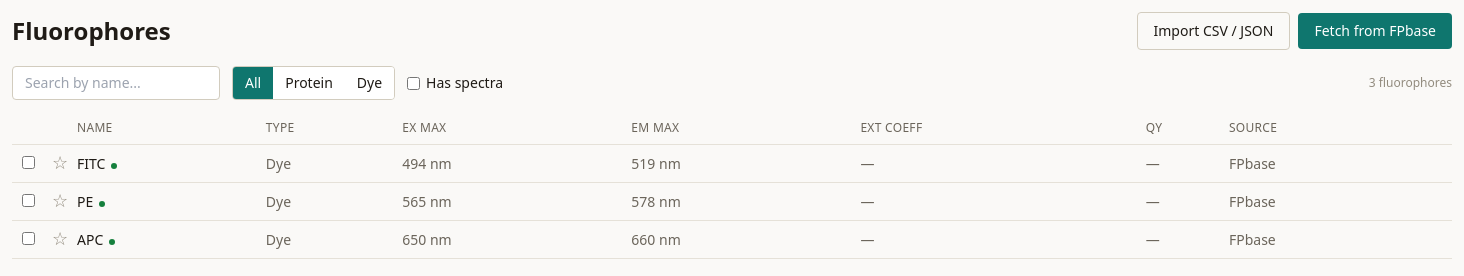
Test: FluorophoreTable › selecting checkboxes opens overlay sidebar
This screenshot has width=1464, height=276.
Expected: the text "Spectra Overlay" is not shown
Click the checkbox titled "Add to spectra overlay" next to "FITC".
click(28, 162)  # box left=22, top=156, right=34, bottom=168
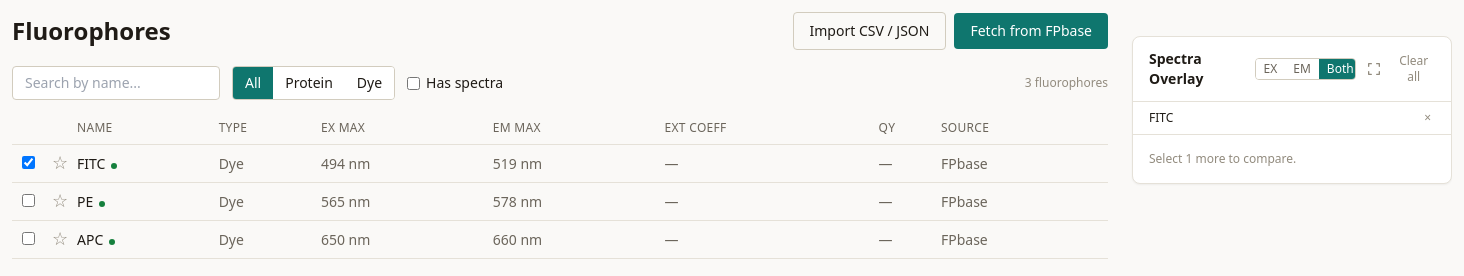
Result: the heading "Spectra Overlay" is shown at left=1149, top=49, right=1203, bottom=88
Result: the text "Select 1 more to compare." is shown at left=1149, top=150, right=1296, bottom=167
Click the checkbox titled "Add to spectra overlay" in the row of "565 nm".
click(28, 200)  # box left=22, top=194, right=34, bottom=206
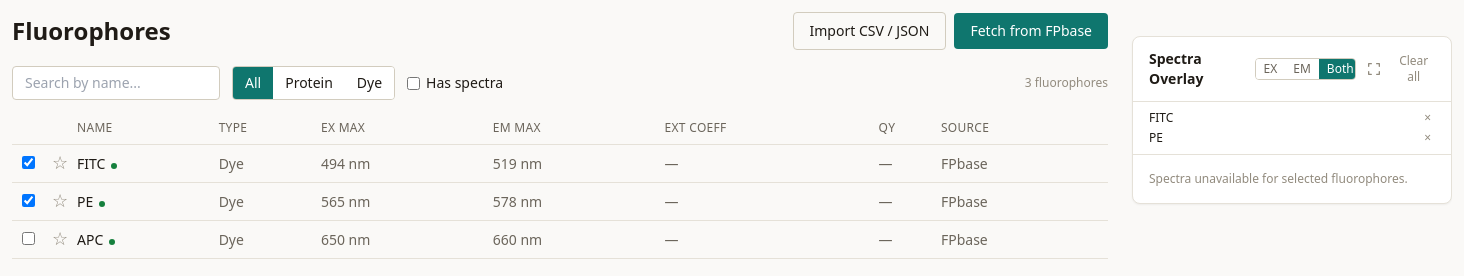
Result: the heading "Spectra Overlay" is shown at left=1149, top=49, right=1203, bottom=88
Result: the text "Select 1 more to compare." is gone
